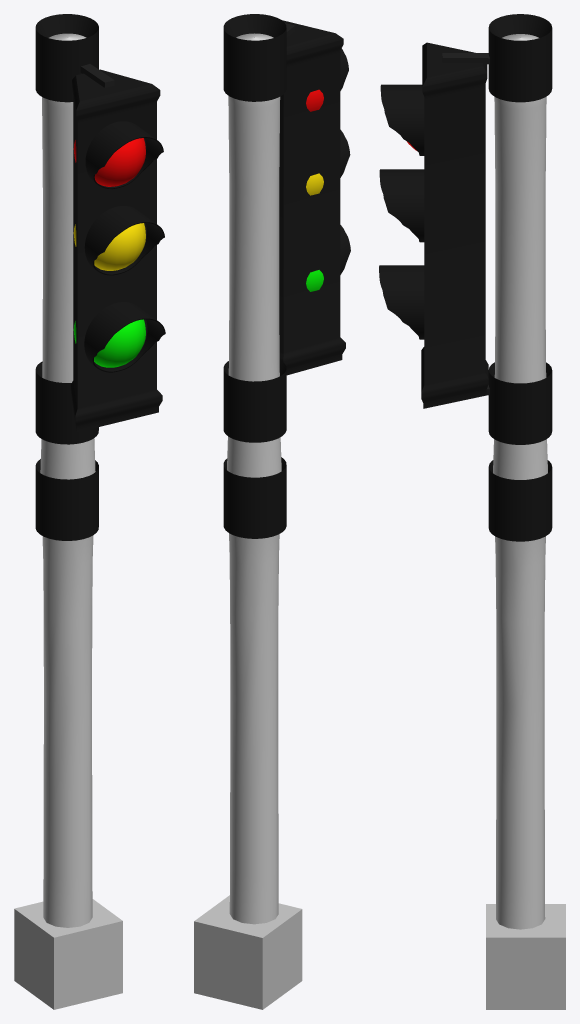
The model's file is traffic_light.obj.
3 renders of one model, left to right at view 1: azimuth 30°, elevation 25°; view 2: azimuth 150°, elevation 25°; view 3: azimuth 270°, elevation 25°, orthographic.
Visible parts, largest first — view 1: traffic_light, Cube; view 2: traffic_light, Cube; view 3: traffic_light, Cube.
Part boxes in pixels (left/top/right/bottom): traffic_light: left=35, top=14, right=165, bottom=927; Cube: left=14, top=899, right=122, bottom=1009; traffic_light: left=223, top=14, right=350, bottom=924; Cube: left=194, top=895, right=302, bottom=1009; traffic_light: left=379, top=14, right=552, bottom=929; Cube: left=486, top=904, right=565, bottom=1009.
Bounding box in the file's own units: 2.53 × 26.66 × 4.68.
